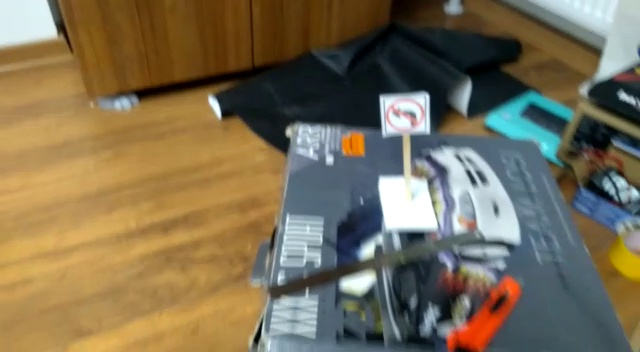sola_donulmez: (384, 95, 427, 133)
